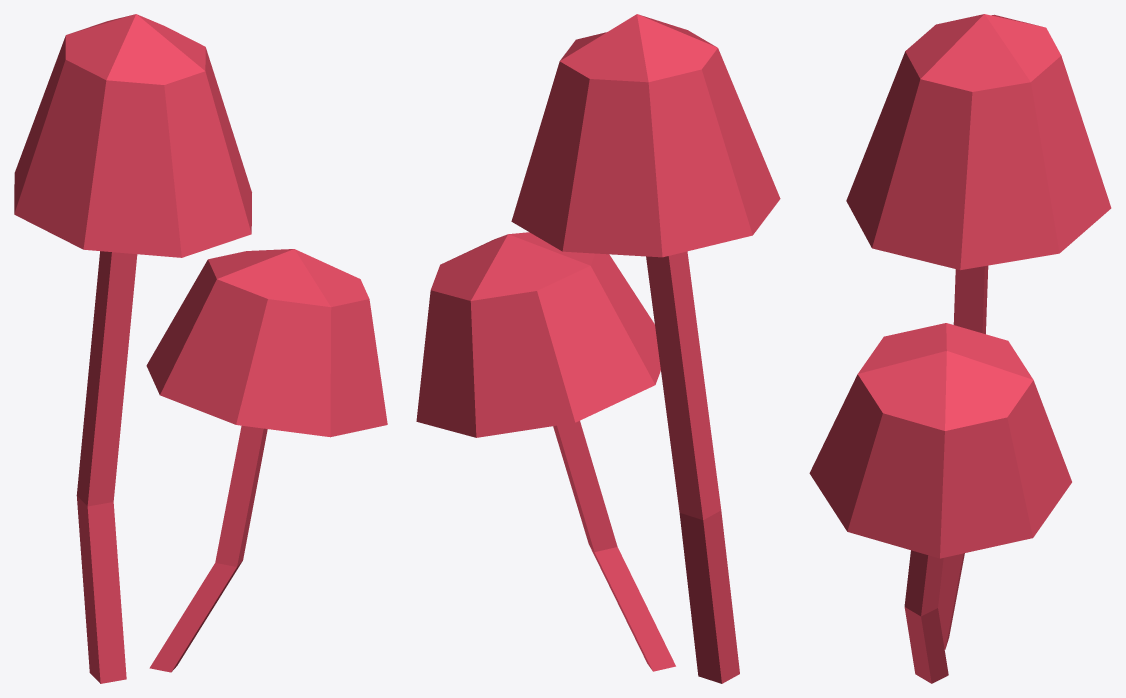
The model's file is Mushroom_c_06.fbx.
3 views of the same model, side by side, from view 1: azimuth 30°, elevation 25°; view 2: azimuth 150°, elevation 25°; view 3: azimuth 270°, elevation 25° (orthographic). The views are drawn at different scales.
Parts seen in each view (by area): view 1: Mushroom_c_06; view 2: Mushroom_c_06; view 3: Mushroom_c_06.
Part boxes in pixels (left/top/right/bottom): Mushroom_c_06: left=14, top=14, right=387, bottom=683; Mushroom_c_06: left=416, top=14, right=780, bottom=683; Mushroom_c_06: left=809, top=14, right=1111, bottom=683.
Bounding box in the file's own units: 18.73 × 34.29 × 14.18.
